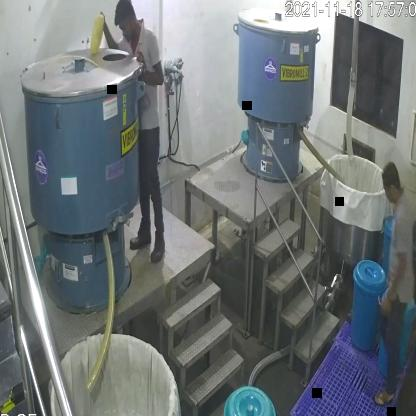no_shoes: (374, 389, 394, 409)
